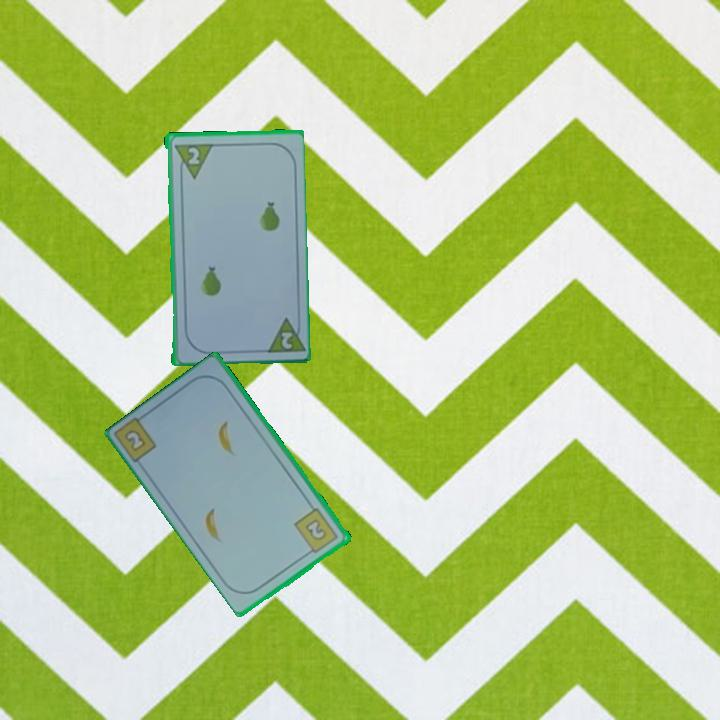2b: (291, 504, 341, 558), (121, 426, 149, 455)
2p: (184, 143, 202, 167), (277, 328, 295, 352)
